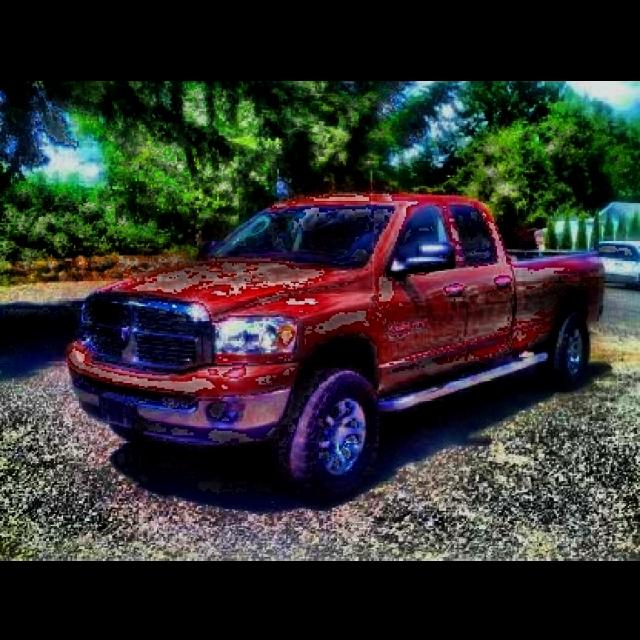maroon: (11, 173, 627, 479)
